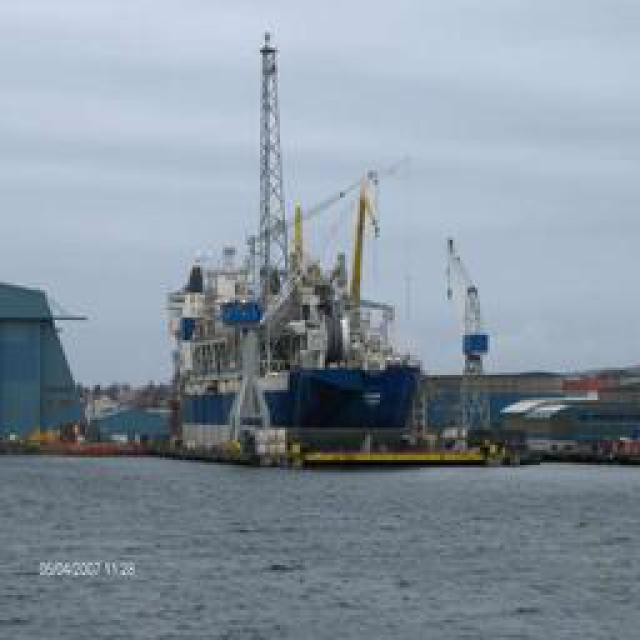Ship: (129, 122, 462, 460)
